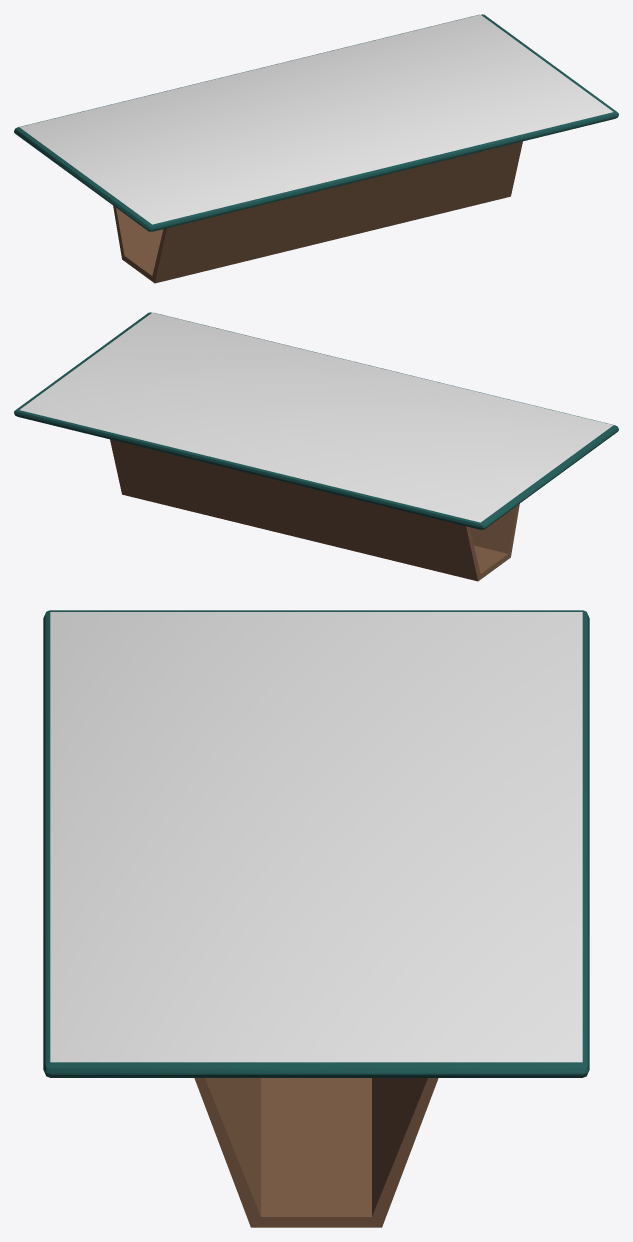
File: Mesa_Sofa.fbx
3 views of the same model, one above another, from view 1: azimuth 30°, elevation 25°; view 2: azimuth 150°, elevation 25°; view 3: azimuth 270°, elevation 25° (orthographic). The views are drawn at different scales.
Parts seen in each view (by area): view 1: MesaSofa; view 2: MesaSofa; view 3: MesaSofa.
Part boxes in pixels (box(x1,y1,x2,y2)): MesaSofa: box(14, 14, 618, 283); MesaSofa: box(14, 312, 618, 581); MesaSofa: box(43, 610, 589, 1227).
Size of the model in its own units: 164 by 36.13 by 82.45.
